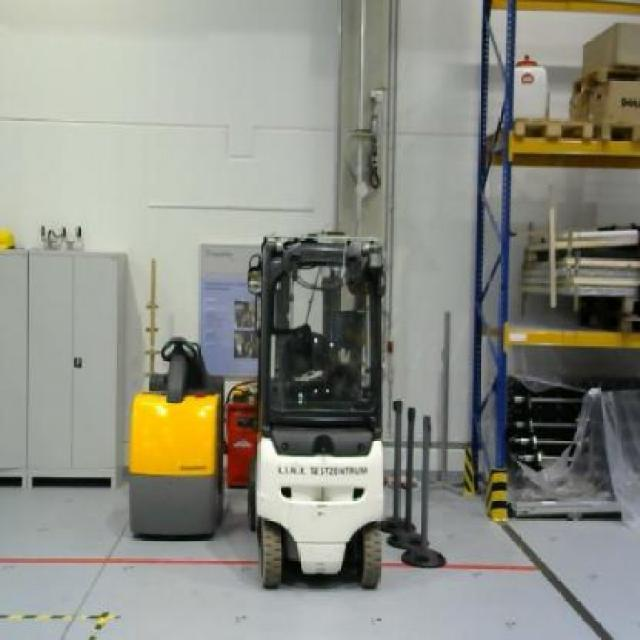box: (566, 77, 640, 123), (580, 22, 638, 67)
